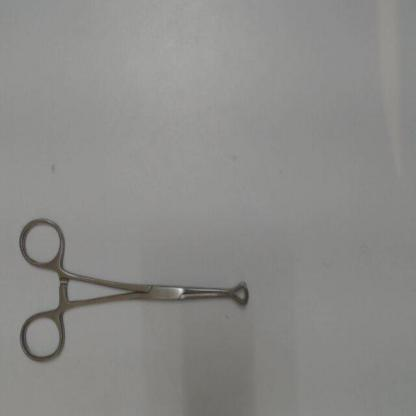Babcock Tissue Forceps: (16, 211, 252, 369)
